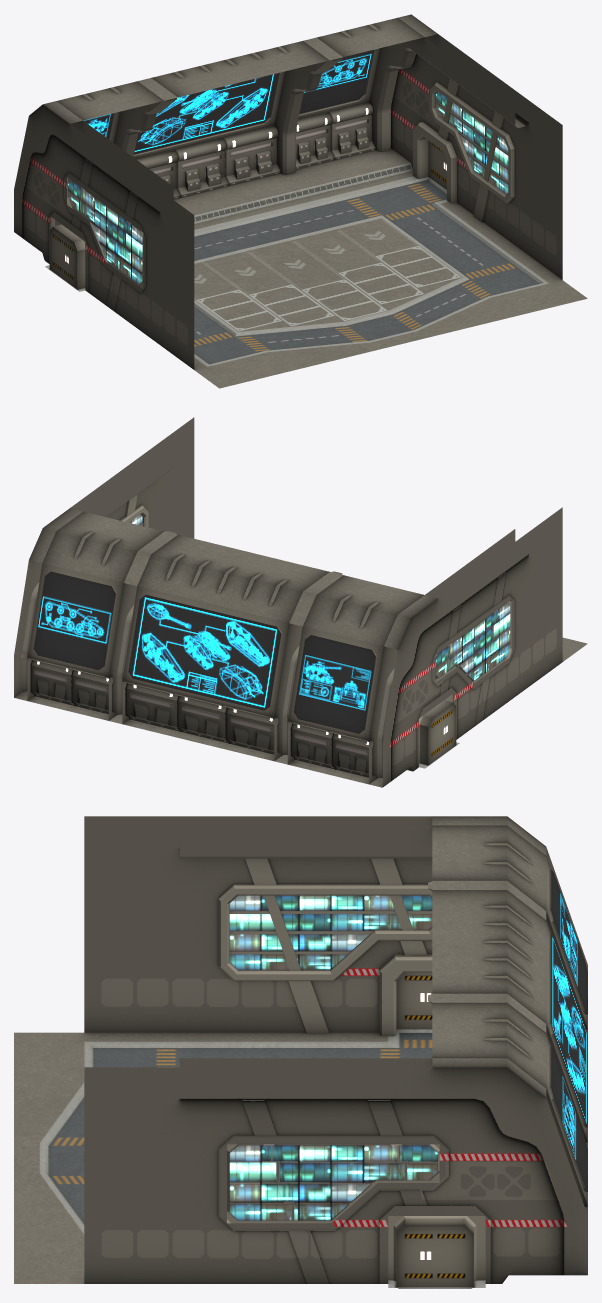
The model's file is Masterhanger.fbx.
3 renders of one model, top to bottom at view 1: azimuth 30°, elevation 25°; view 2: azimuth 150°, elevation 25°; view 3: azimuth 270°, elevation 25°, orthographic. The views are drawn at different scales.
Parts seen in each view (by area): view 1: hanger_walls, hanger_base; view 2: hanger_walls, hanger_base; view 3: hanger_walls, hanger_base.
Part boxes in pixels (<box>): hanger_walls: <box>14,34,562,369</box>; hanger_base: <box>43,14,587,388</box>; hanger_walls: <box>14,417,562,787</box>; hanger_base: <box>14,508,587,787</box>; hanger_walls: <box>84,816,587,1287</box>; hanger_base: <box>14,816,546,1288</box>.
Bounding box in the file's own units: 221 × 87 × 207.
